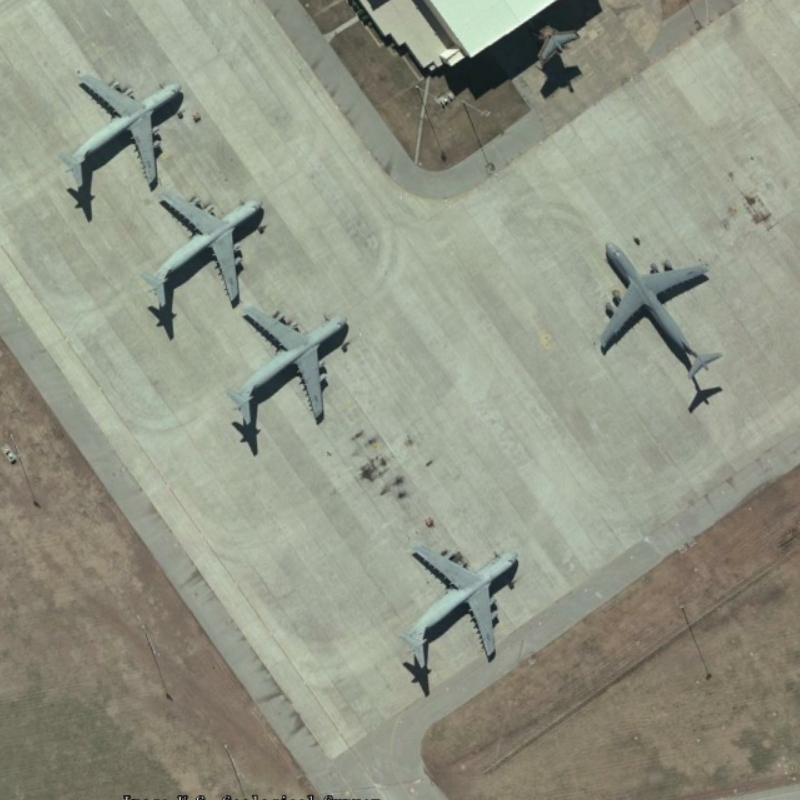A4: (591, 231, 728, 380), (54, 57, 182, 206), (223, 295, 353, 439), (398, 531, 521, 679), (143, 187, 265, 323)
